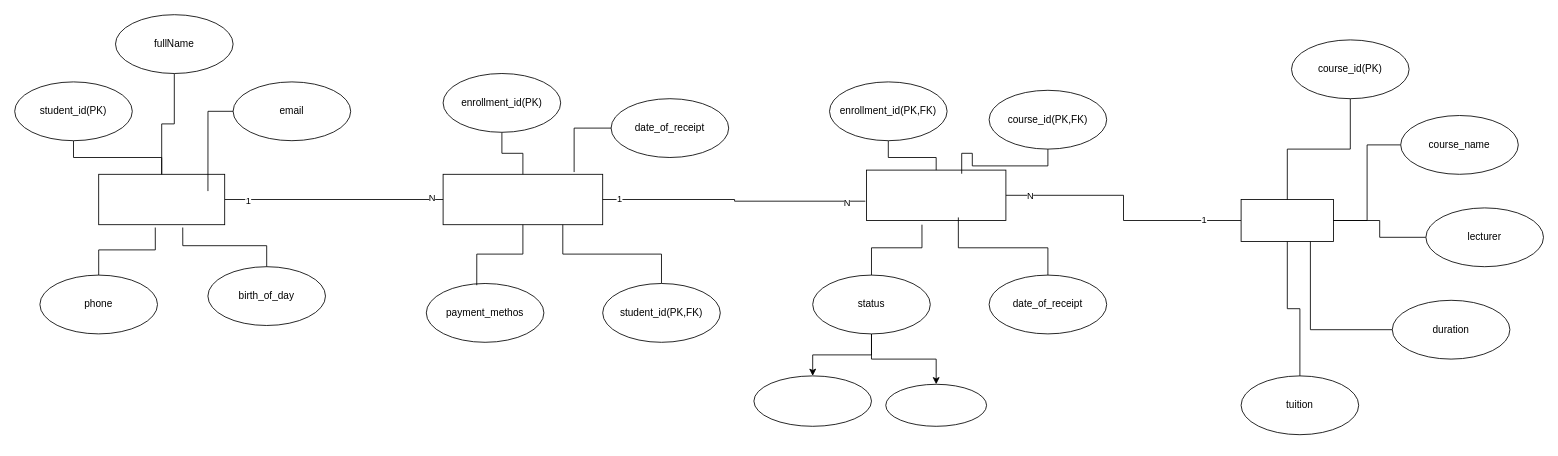
Some shapes in this 1558 by 456 pixel diagram are drawn without their labels. Here are the shapes that lost their labels. From the top down, the centre of each, then its label:
At point 161,199: "Student".
At point 522,199: "Enrollment".
At point 936,194: "Enrollment_Detail".
At point 1287,220: "Course".
At point 812,400: "đang học".
At point 936,404: "bảo lưu".
